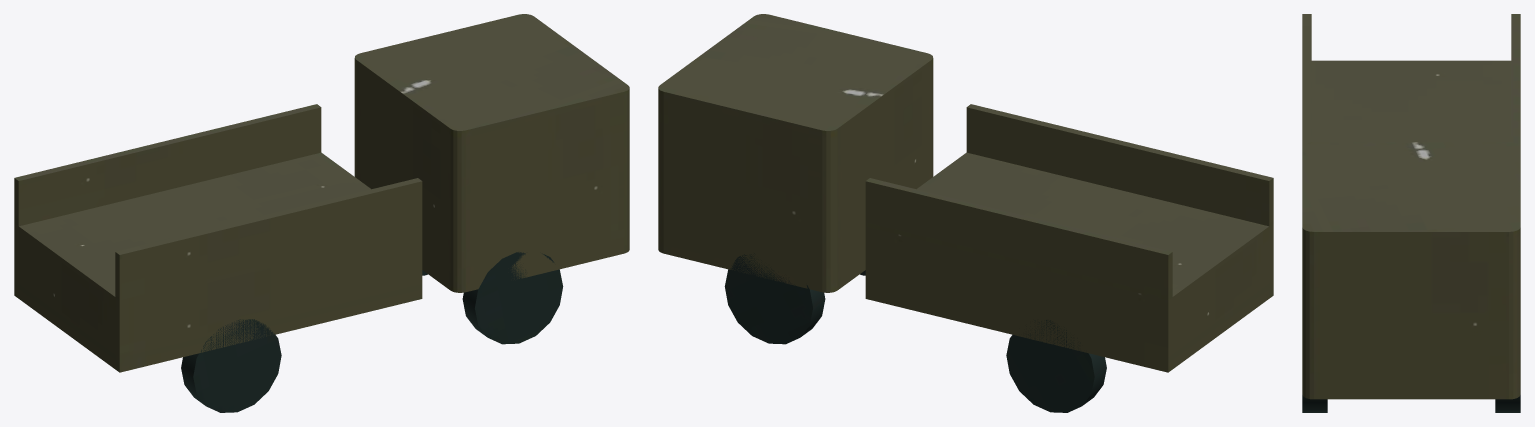
The model's file is type94-cargo-truck.glb.
3 renders of one model, left to right at view 1: azimuth 30°, elevation 25°; view 2: azimuth 150°, elevation 25°; view 3: azimuth 270°, elevation 25°, orthographic. The views are drawn at different scales.
Parts seen in each view (by area): view 1: Body, WheelR1R, WheelFR; view 2: Body, WheelR1L, WheelFL; view 3: Body, Nose, WheelFL, WheelFR.
Part boxes in pixels (x1,y1,x2,y2): Body: (14, 14, 629, 372); WheelR1R: (181, 319, 281, 412); WheelFR: (462, 252, 563, 344); Body: (658, 14, 1273, 372); WheelR1L: (1006, 320, 1106, 412); WheelFL: (724, 253, 825, 344); Body: (1302, 14, 1520, 399); Nose: (1339, 330, 1483, 374); WheelFL: (1495, 395, 1520, 412); WheelFR: (1302, 395, 1327, 412).
Bounding box in the file's own units: 5.35 × 2.25 × 1.9.
1 material, 1 textured.
